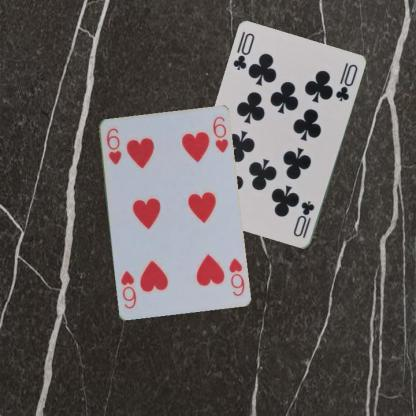10c: (230, 30, 256, 72), (291, 198, 316, 240)
6h: (226, 255, 245, 297), (103, 125, 122, 166)
